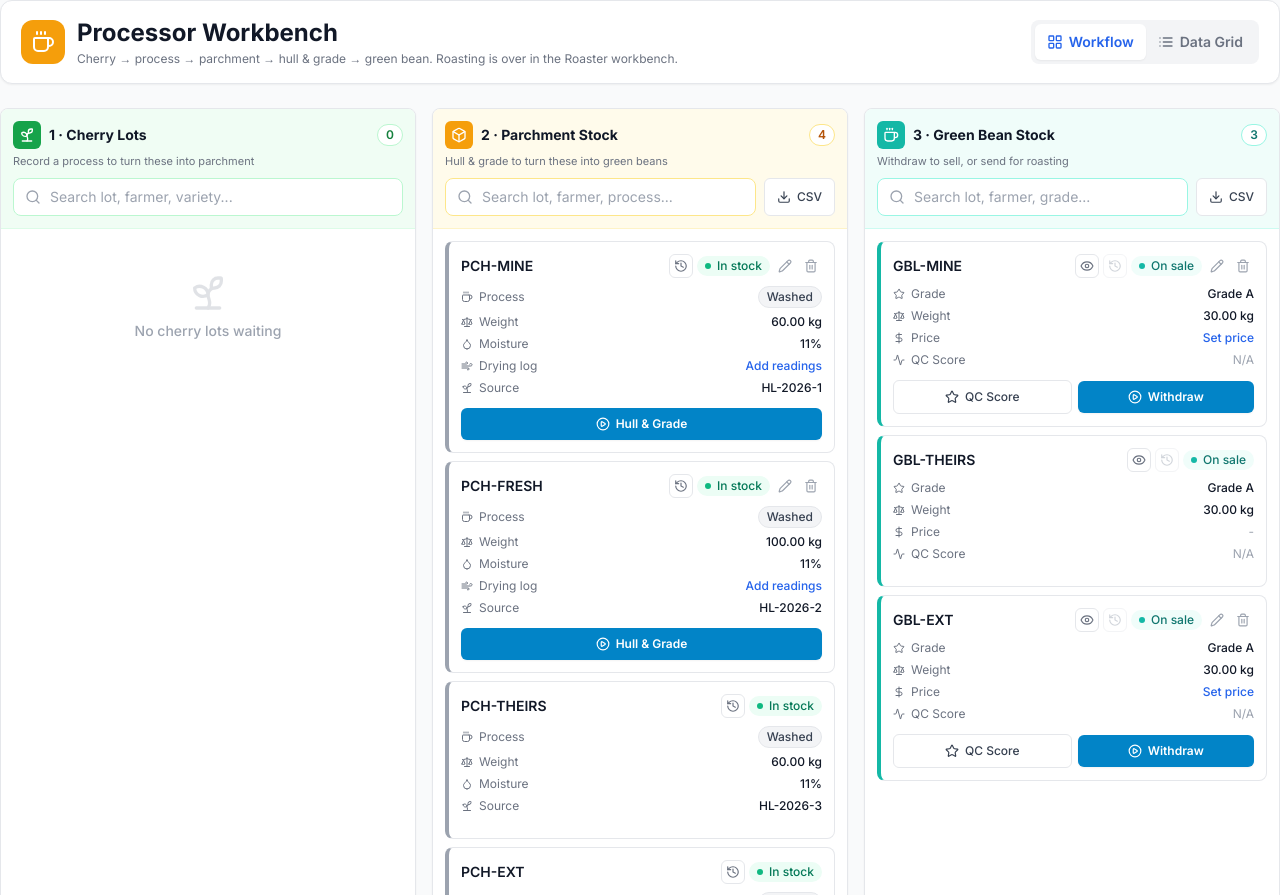
Test: Workbench edit and delete (F24) › edits a batch's parchment as the batch and saves into the batch, its parchment and its green beans
The width and height of the screenshot is (1280, 895).
Step 1. Click the button named "Edit parchment lot PCH-MINE" → (785, 266), box left=774, top=254, right=796, bottom=276
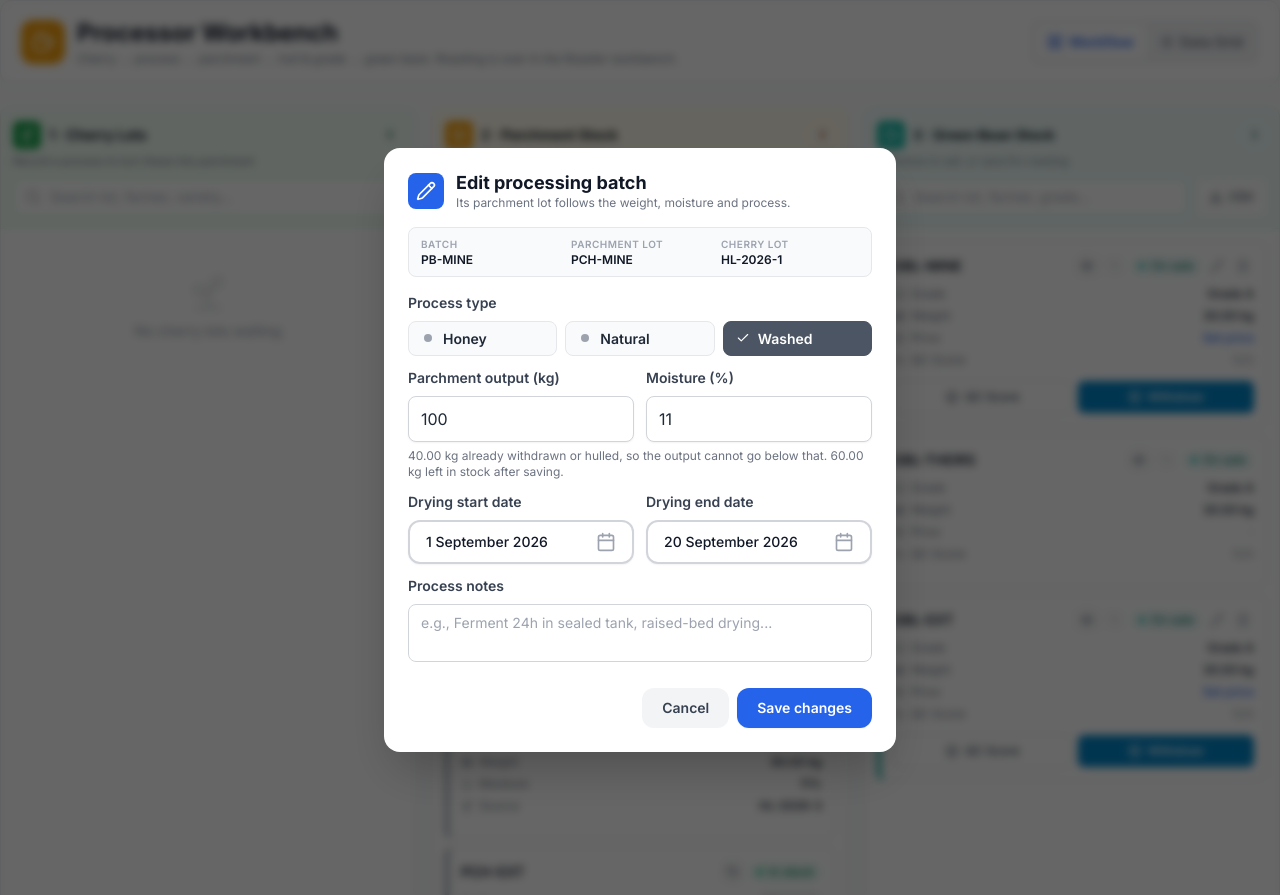
Expected: the text "PB-MINE" is shown, left=421, top=252, right=473, bottom=266
Expected: the text with test id "edit-batch-stock" shows "40.00 kg already withdrawn or hulled", left=408, top=448, right=827, bottom=463
Step 2. Replace the text in the number field labelled "Parchment output (kg)" with "90" → (521, 419), box left=408, top=396, right=634, bottom=442
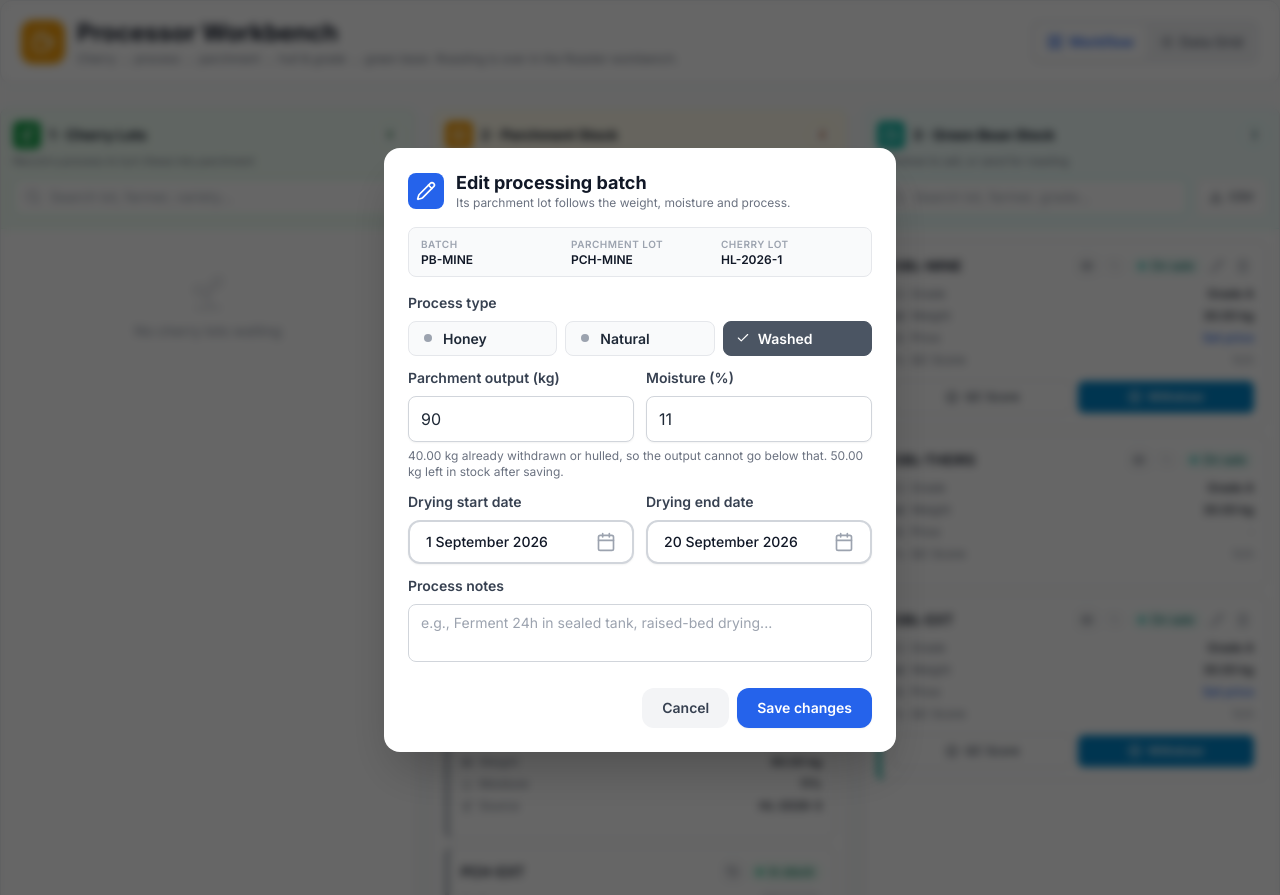
Step 3. Click the button "Save changes" → (805, 708), box left=737, top=688, right=872, bottom=728
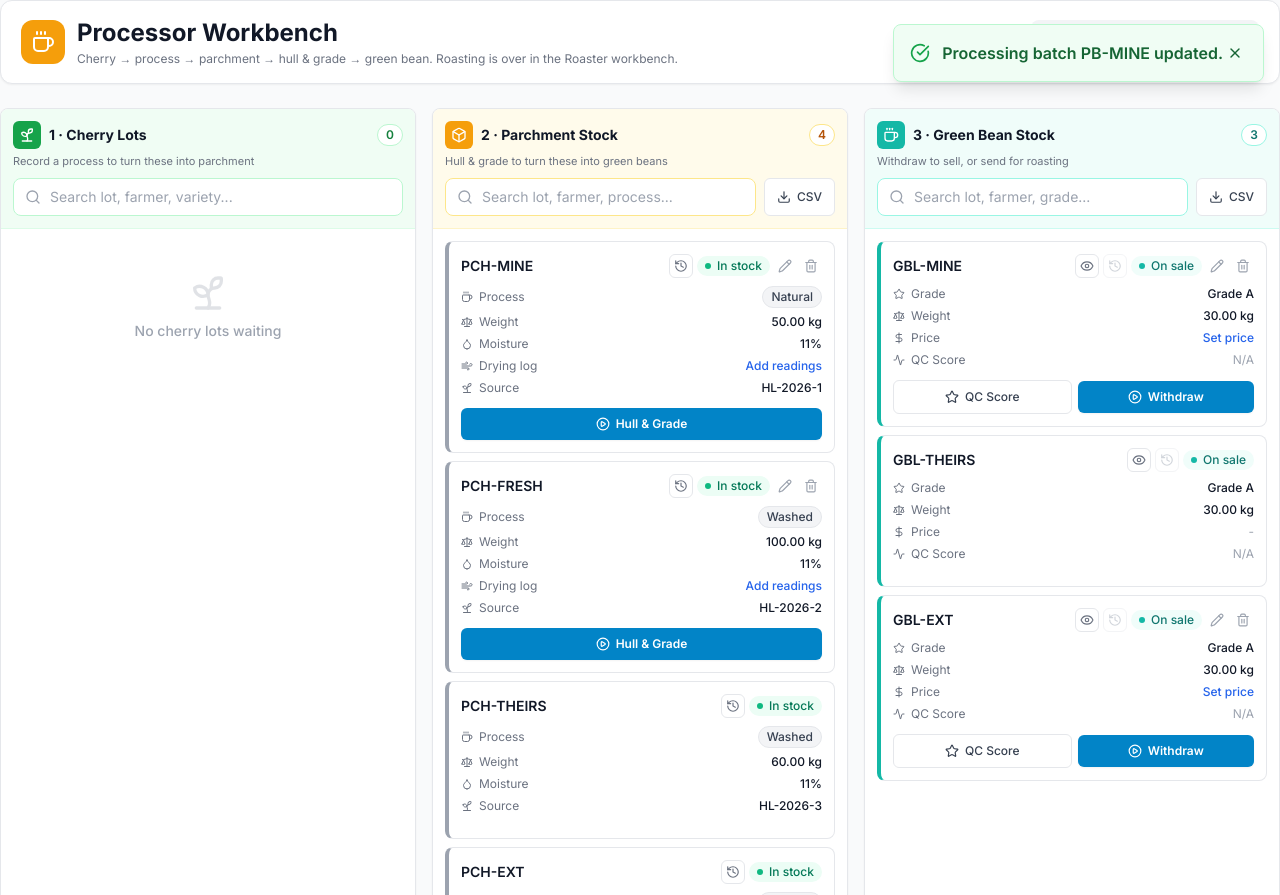
Expected: the heading "Edit processing batch" is gone
Expected: the text "Natural" is shown, left=762, top=286, right=822, bottom=308
Expected: the text "Processing batch PB-MINE updated." is shown, left=942, top=41, right=1223, bottom=65
